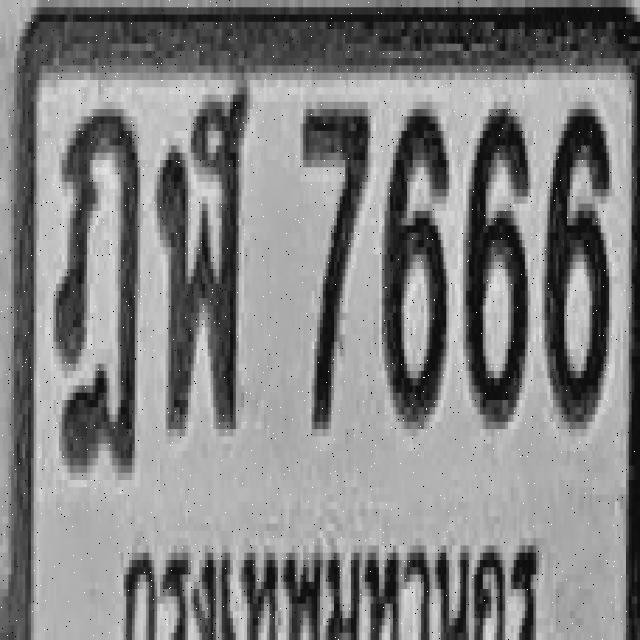23DorChaDa: (55, 102, 139, 473)
51LorChula: (157, 80, 247, 429)
6: (463, 102, 528, 422), (383, 102, 448, 422), (545, 102, 609, 422)
7: (302, 102, 369, 430)
Bangkok: (115, 520, 546, 640)
